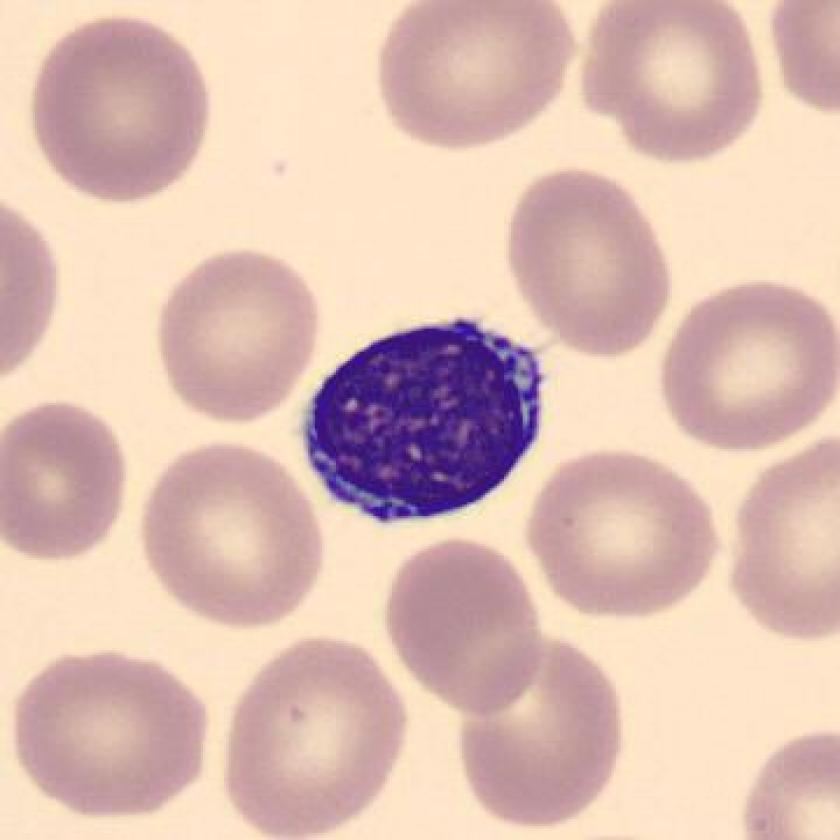lymphocyte: (288, 297, 556, 552)
